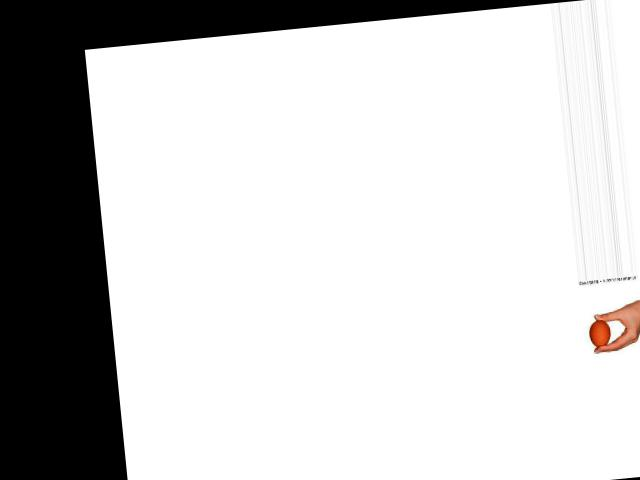egg: (587, 318, 611, 349)
